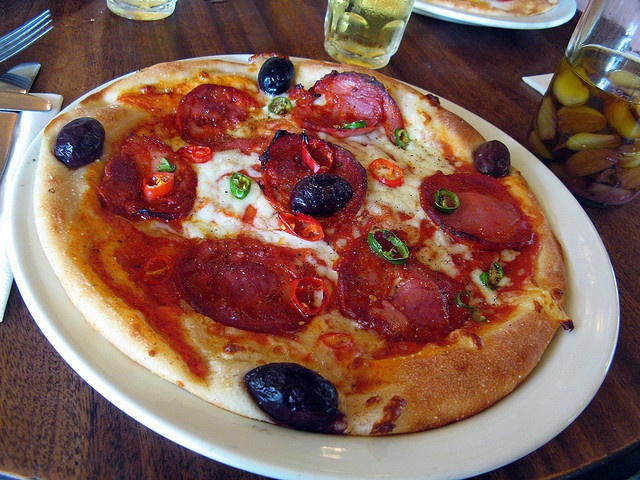Pizza: (32, 47, 604, 453)
